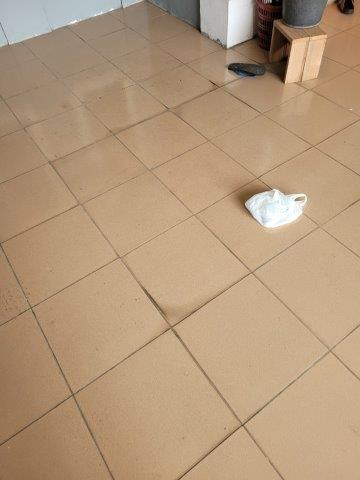plastik: (245, 192, 306, 229)
